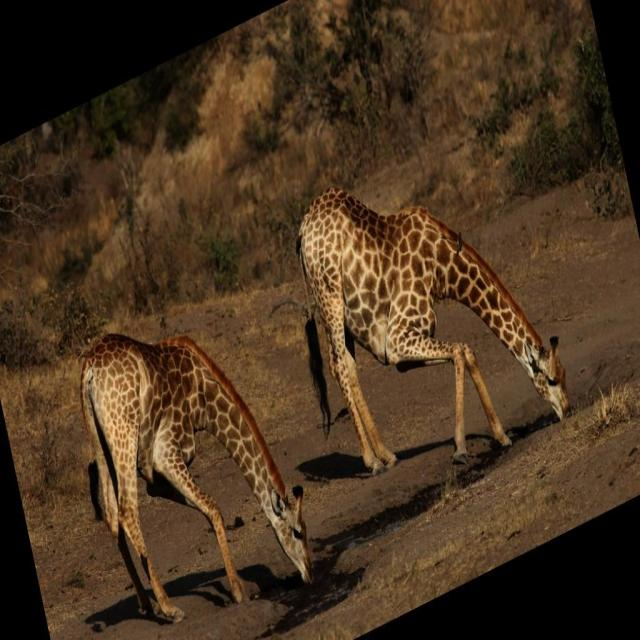Giraffe: (62, 289, 316, 630), (296, 180, 580, 477)
